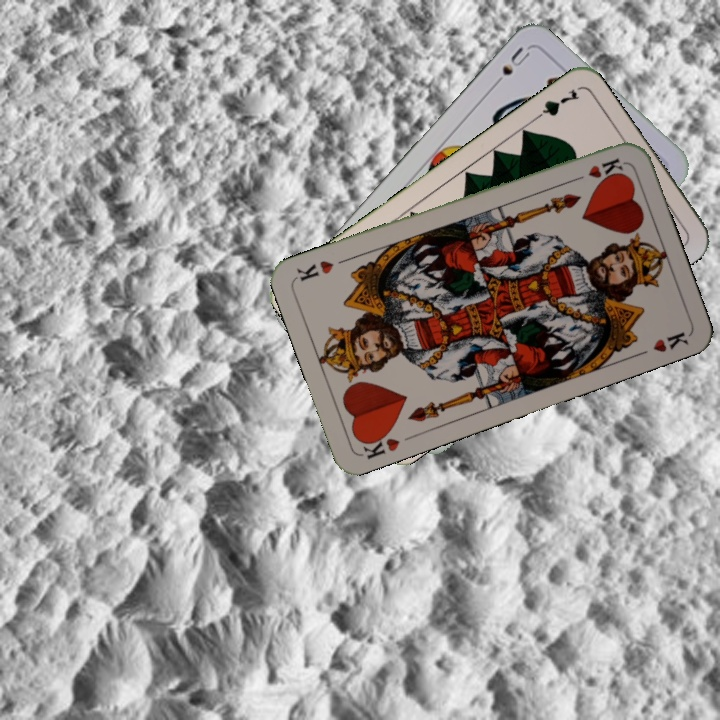G7: (528, 85, 582, 125)
HK: (568, 154, 626, 185), (355, 426, 402, 462)
SU: (487, 42, 533, 92)
